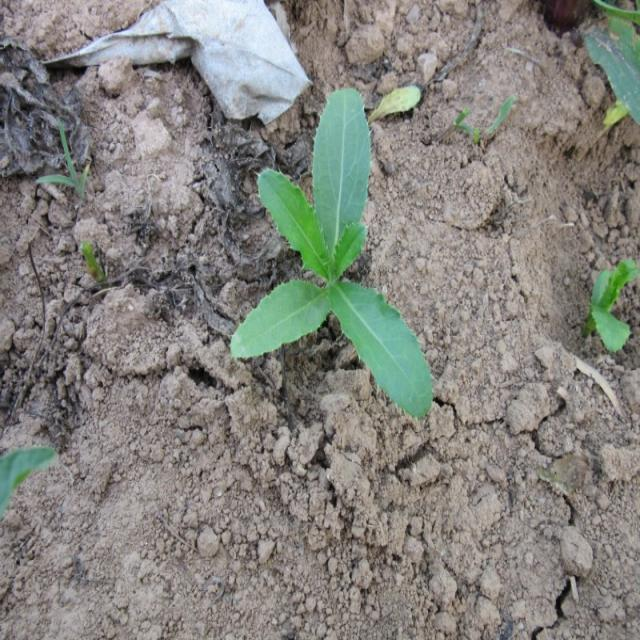cs: (231, 85, 433, 418)
